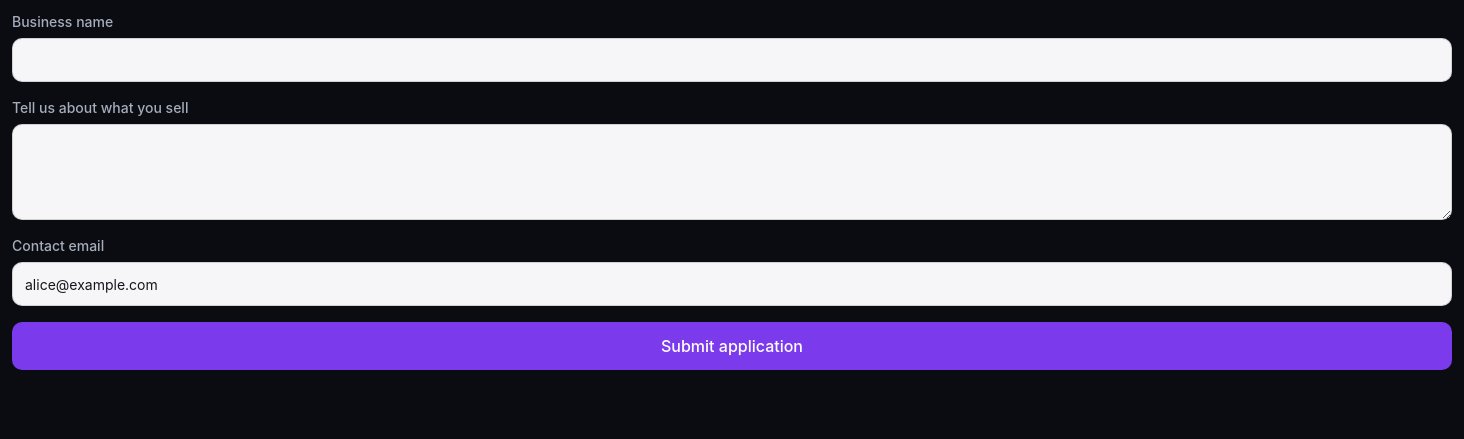
Test case: SellerApplicationForm › shows validation errors instead of submitting when required fields are empty
Click the button "Submit application" at (732, 346), box [12, 322, 1452, 370]
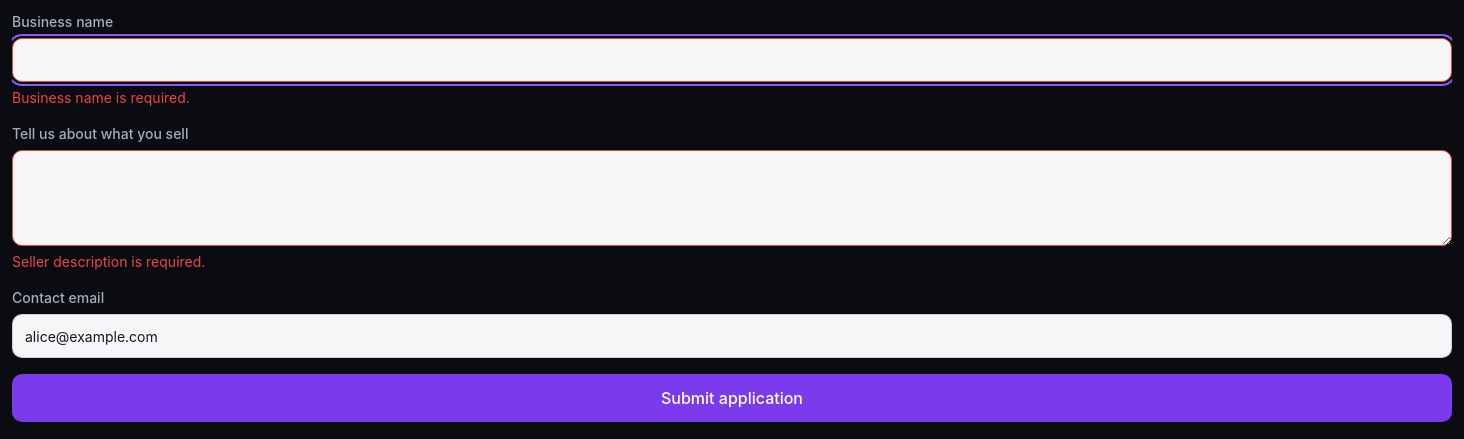
Expected: the text "Business name is required." is shown, [12, 89, 190, 106]
